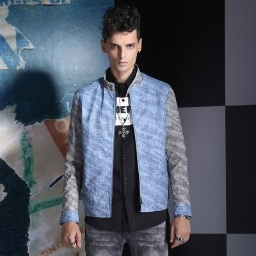face: (99, 5, 144, 75)
